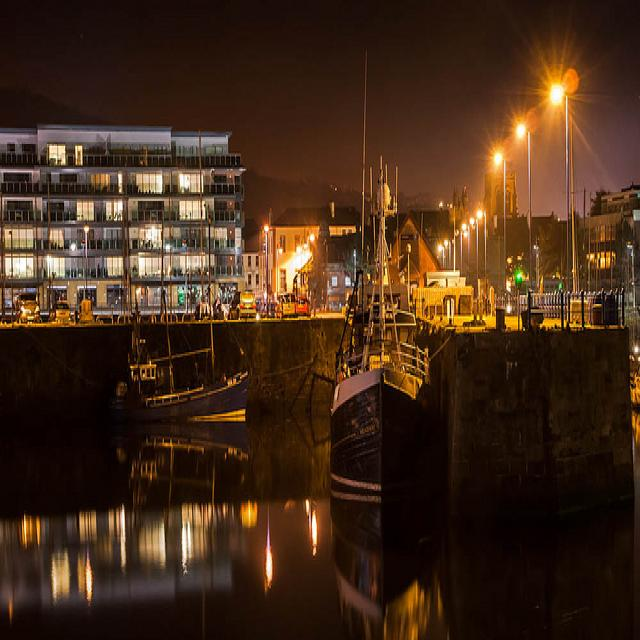Boat: (322, 27, 443, 520), (92, 303, 270, 476)
